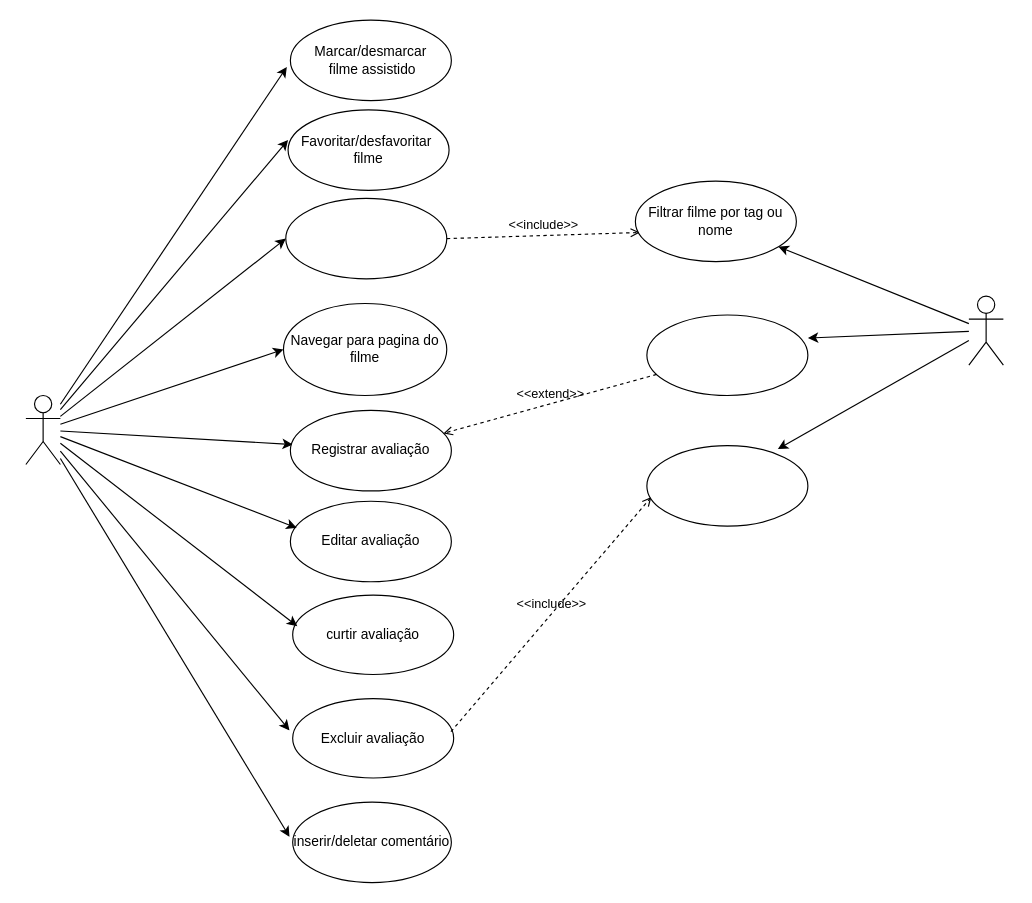
The diagram is 1032 pixels wide and 903 high, and some of its shapes have lost their labels. Here are the shapes that lost their labels. From the top down, the box of each, then its label:
(285, 197, 447, 279): Pesquisar filmes
(968, 295, 1003, 365): SIstema
(646, 314, 808, 395): Marcar filme assistido
(25, 394, 60, 464): Usuario
(646, 444, 808, 526): Excluir comentários e curtidas
